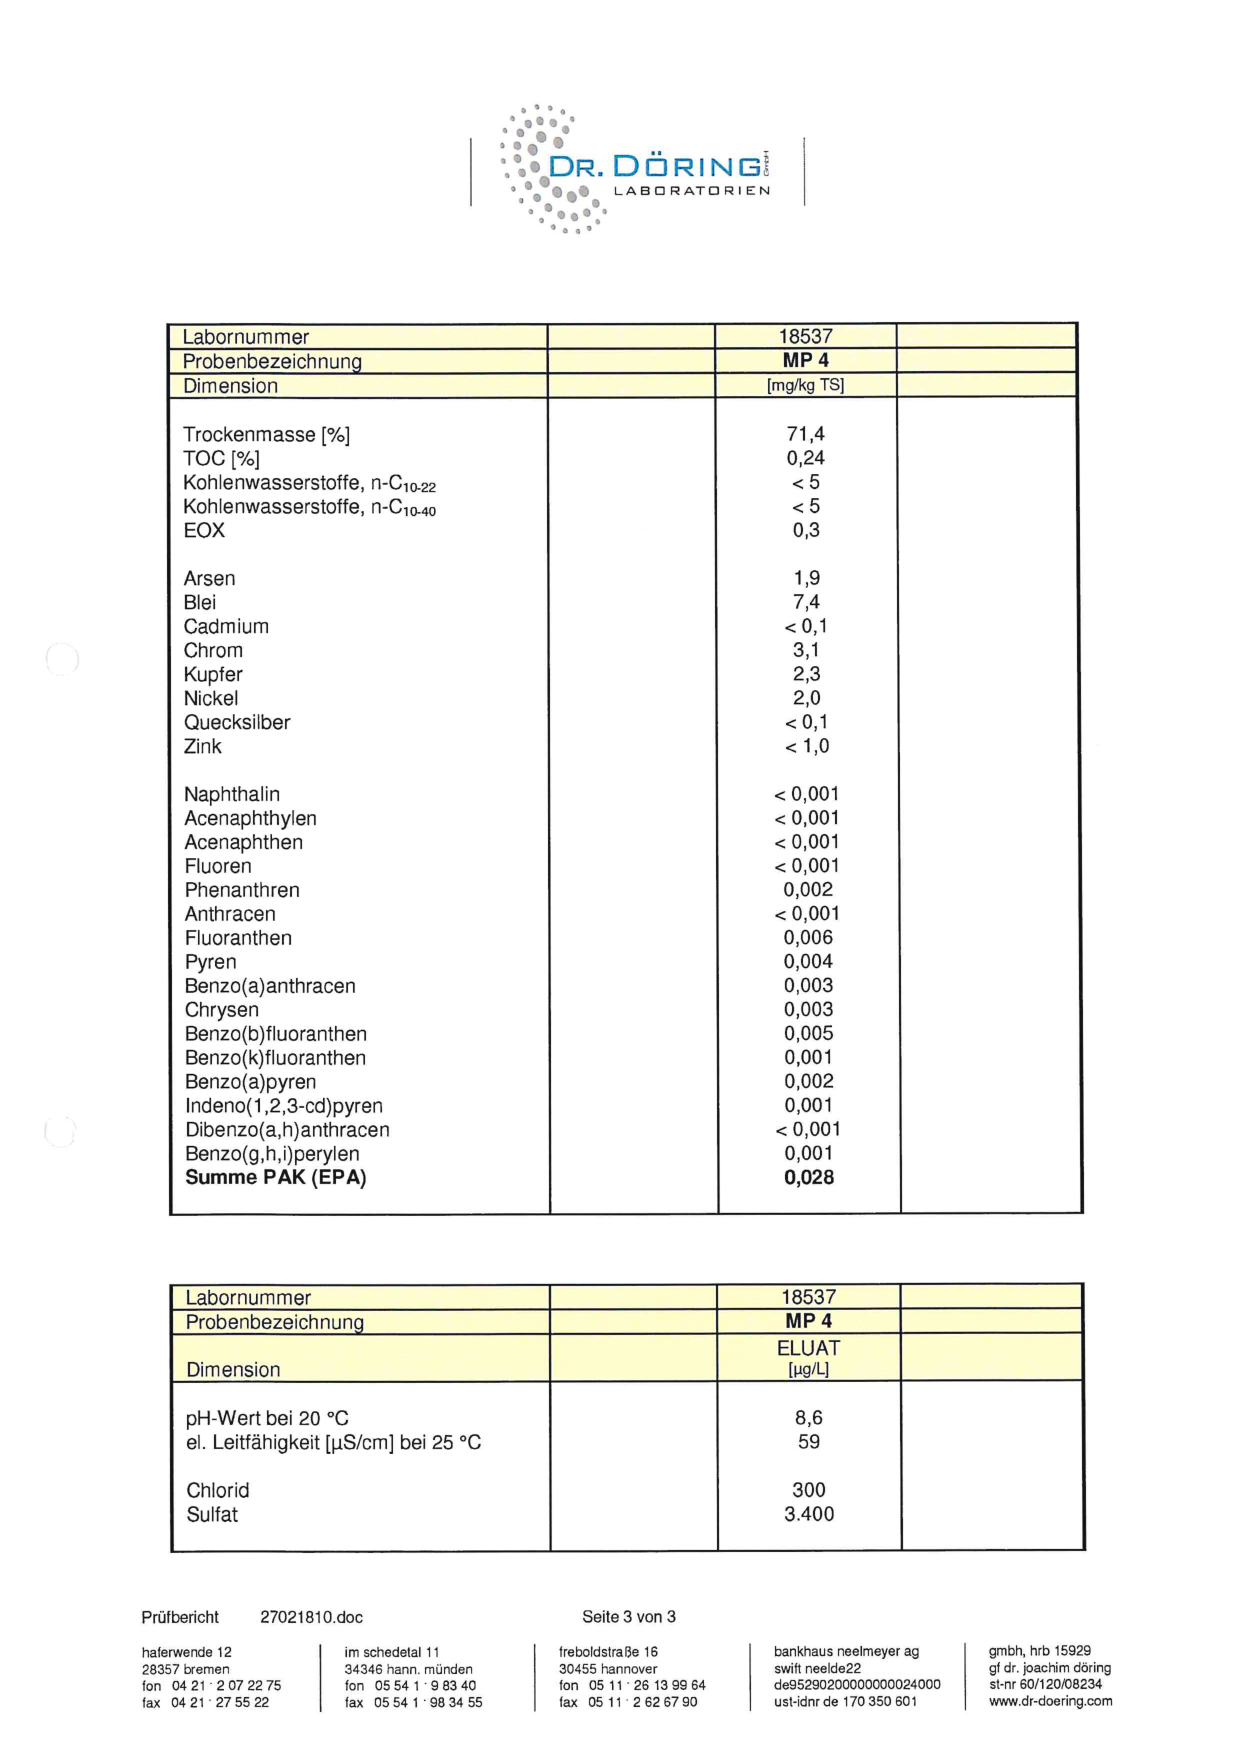table: (156, 314, 1094, 1231), (148, 1264, 1108, 1571)
